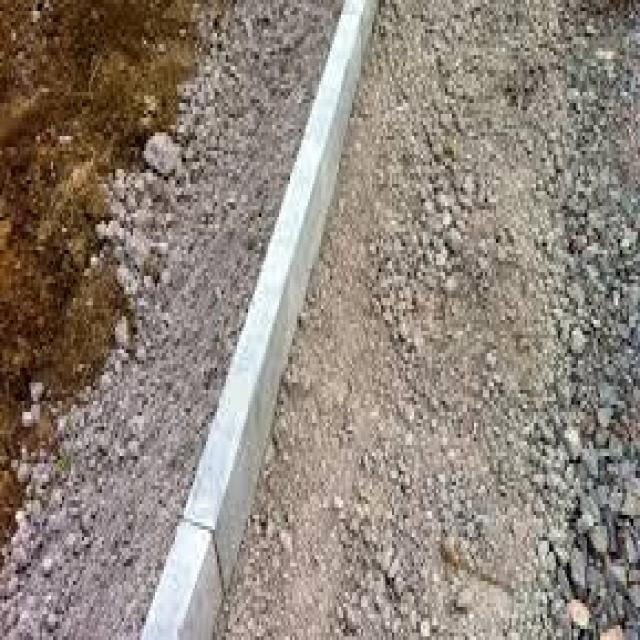curb: (143, 4, 383, 640)
